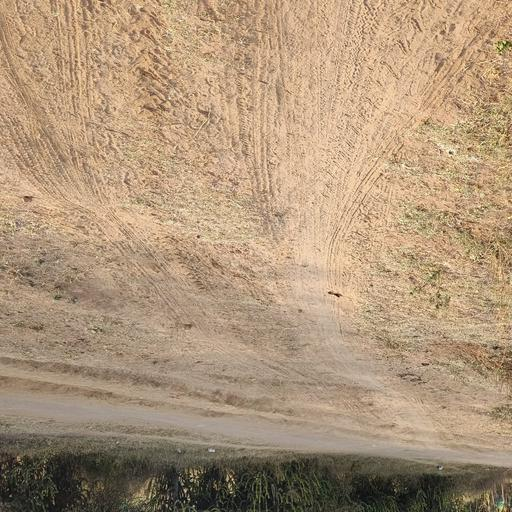vehicle_track: (277, 0, 512, 433), (0, 0, 253, 360), (0, 392, 377, 448)
